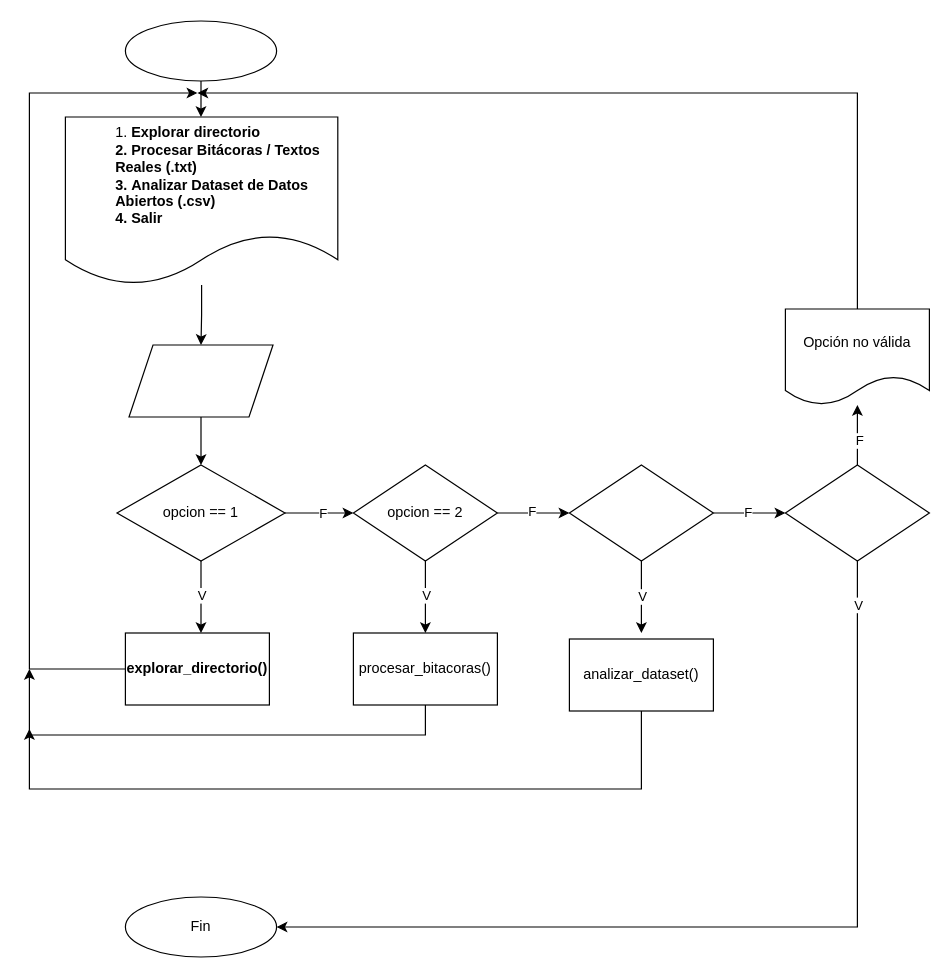
The diagram is 950 pixels wide and 978 high, and some of its shapes have lost their labels. Each missing label, with the centre of its shape:
Inicio: (x=200, y=50)
Leer opcion: (x=200, y=380)
opcion == 3: (x=640, y=512)
opcion == 4: (x=856, y=512)
